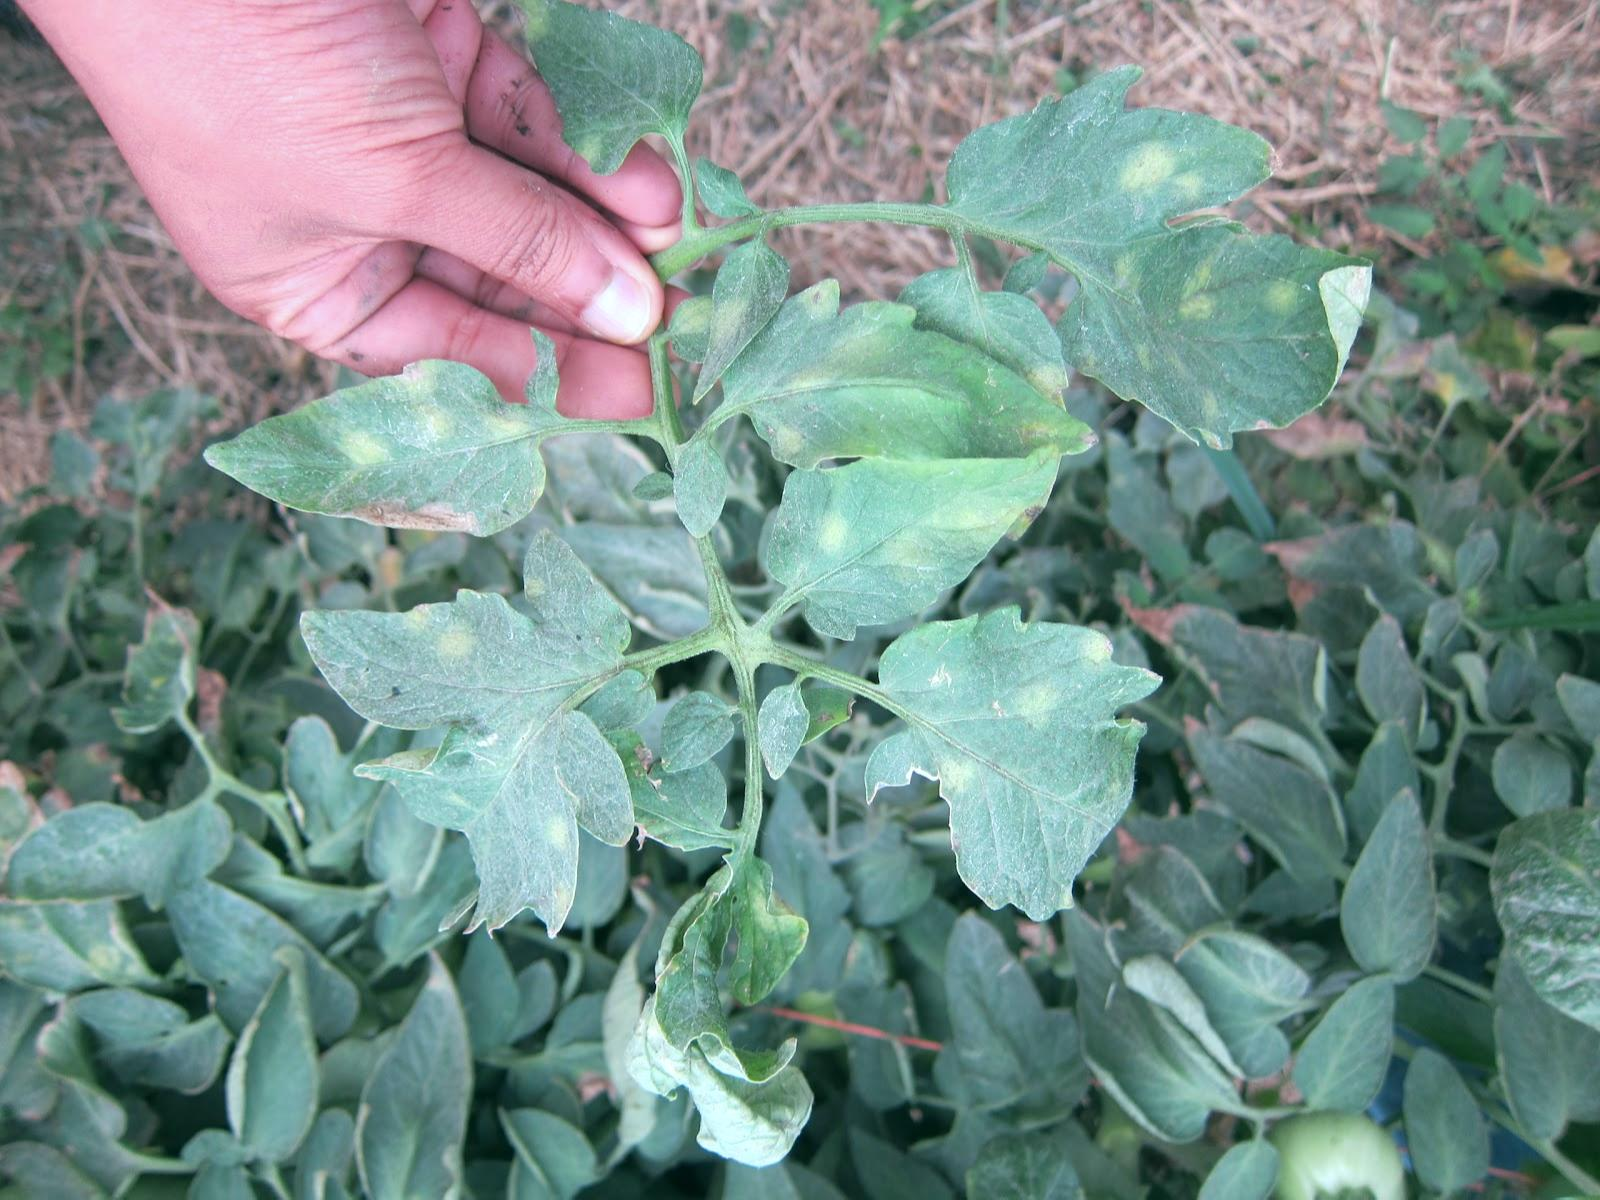Tomato mold leaf: (289, 547, 640, 953), (850, 604, 1167, 920), (183, 340, 559, 579), (1053, 219, 1409, 471), (771, 357, 1080, 642), (690, 245, 1112, 447), (892, 69, 1344, 255), (624, 858, 823, 1174), (506, 5, 721, 185)
